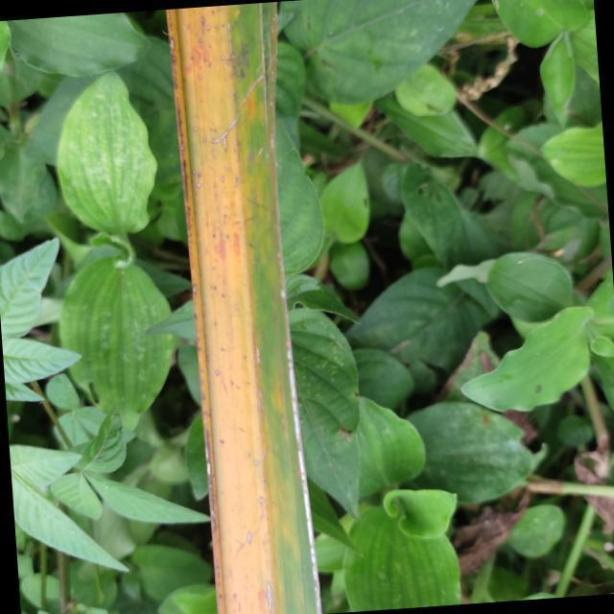Megnesium: (165, 0, 321, 614)
